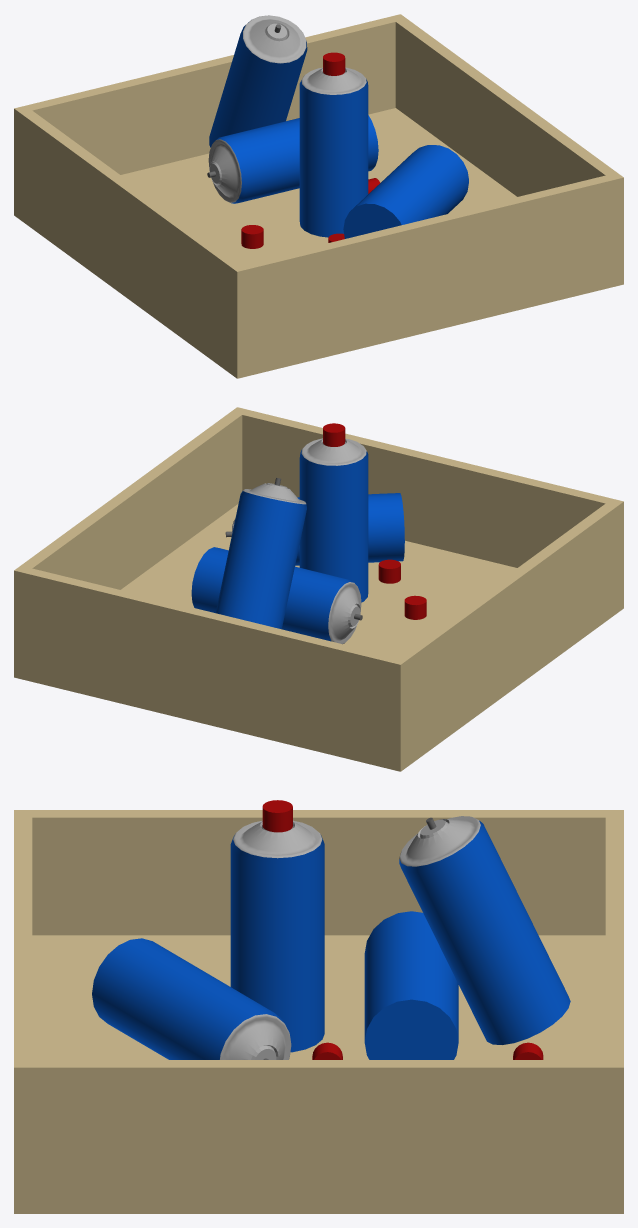
The model's file is gas.fbx.
3 views of the same model, one above another, from view 1: azimuth 30°, elevation 25°; view 2: azimuth 150°, elevation 25°; view 3: azimuth 270°, elevation 25° (orthographic). The views are drawn at different scales.
Parts seen in each view (by area): view 1: pCube1, pCylinder5, pCylinder9, pCylinder7, pCylinder6, pCylinder4; view 2: pCube1, pCylinder9, pCylinder5, pCylinder6, pCylinder7, pCylinder10, pCylinder4, pCylinder2; view 3: pCube1, pCylinder9, pCylinder5, pCylinder7, pCylinder6, pCylinder2.
Part boxes in pixels (left/top/right/bottom): pCube1: left=14, top=14, right=623, bottom=378; pCylinder5: left=299, top=67, right=368, bottom=237; pCylinder9: left=209, top=15, right=307, bottom=147; pCylinder7: left=343, top=145, right=468, bottom=238; pCylinder6: left=207, top=115, right=378, bottom=203; pCylinder4: left=241, top=225, right=263, bottom=248; pCube1: left=14, top=407, right=623, bottom=771; pCylinder9: left=215, top=477, right=306, bottom=629; pCylinder5: left=299, top=438, right=368, bottom=602; pCylinder6: left=191, top=547, right=362, bottom=644; pCylinder7: left=225, top=493, right=404, bottom=565; pCylinder10: left=378, top=559, right=400, bottom=583; pCylinder4: left=404, top=595, right=426, bottom=619; pCylinder2: left=323, top=423, right=345, bottom=446; pCube1: left=14, top=810, right=623, bottom=1213; pCylinder9: left=399, top=816, right=570, bottom=1044; pCylinder5: left=230, top=820, right=324, bottom=1052; pCylinder7: left=92, top=938, right=291, bottom=1059; pCylinder6: left=364, top=911, right=458, bottom=1059; pCylinder2: left=262, top=800, right=292, bottom=832.
Bounding box in the file's own units: 45.59 × 22.96 × 45.59.
